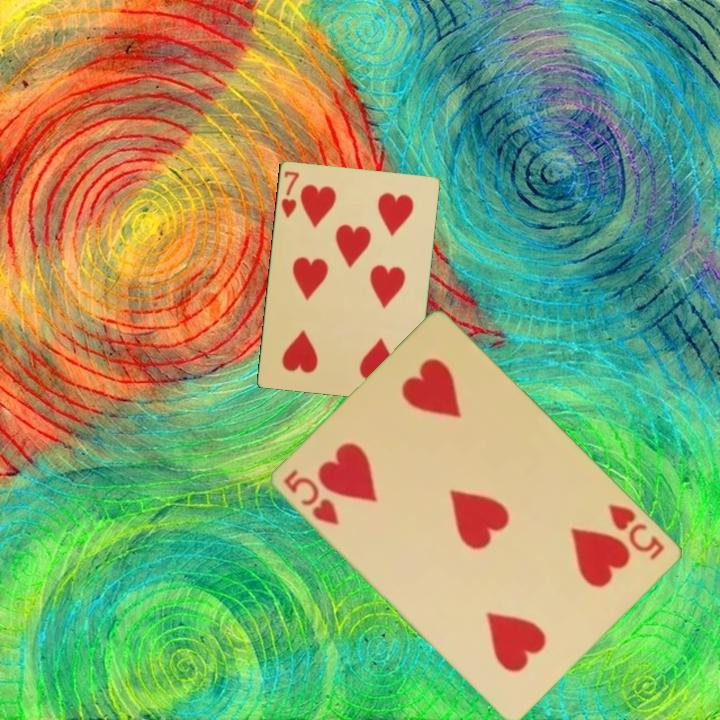5h: (605, 500, 668, 564), (280, 466, 343, 529)
7h: (277, 167, 302, 220)
